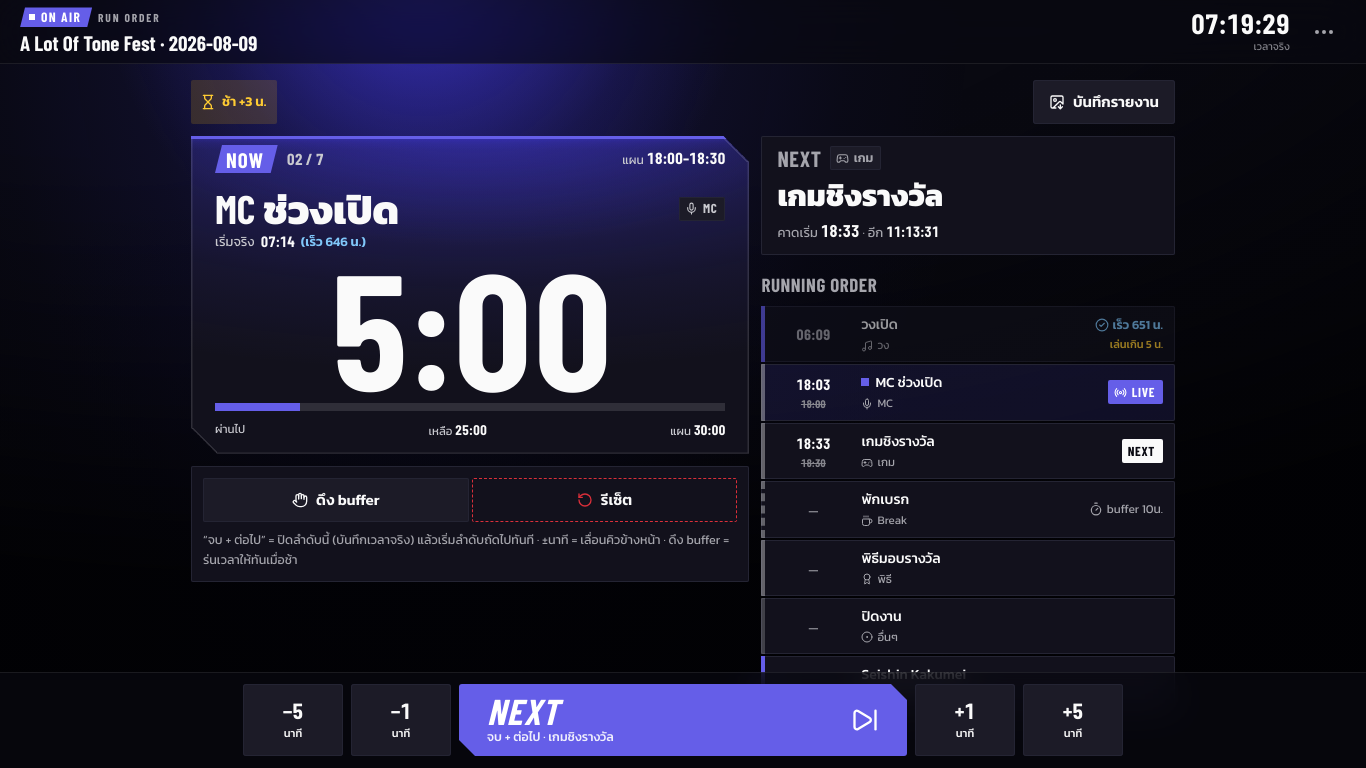
Scenario: EventLiveCaller — Feedback, theme and fullscreen from the board › canControl=true: the top bar's ⋯ opens the account panel with all three
Click the button named "แจ้งปัญหา" at (1324, 32), box top-left (1302, 10), bottom-right (1346, 54)
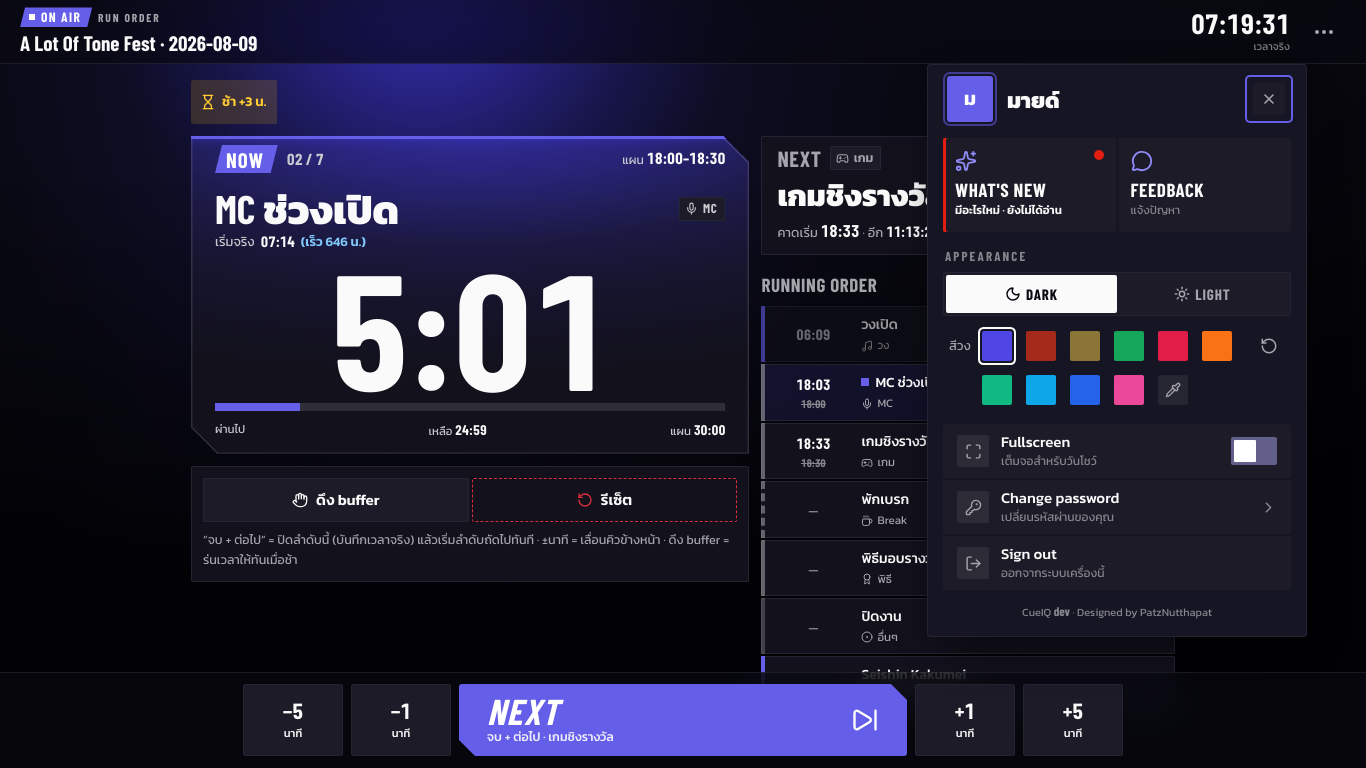
Expected: the button titled "ส่งฟีดแบค / แจ้งปัญหา" is shown, top-left (1118, 138), bottom-right (1291, 232)
Expected: the radio button labelled "Light" is shown, top-left (1117, 275), bottom-right (1288, 313)
Expected: the switch labelled "Fullscreen เต็มจอสำหรับวันโชว์" is shown, top-left (943, 424), bottom-right (1291, 478)
